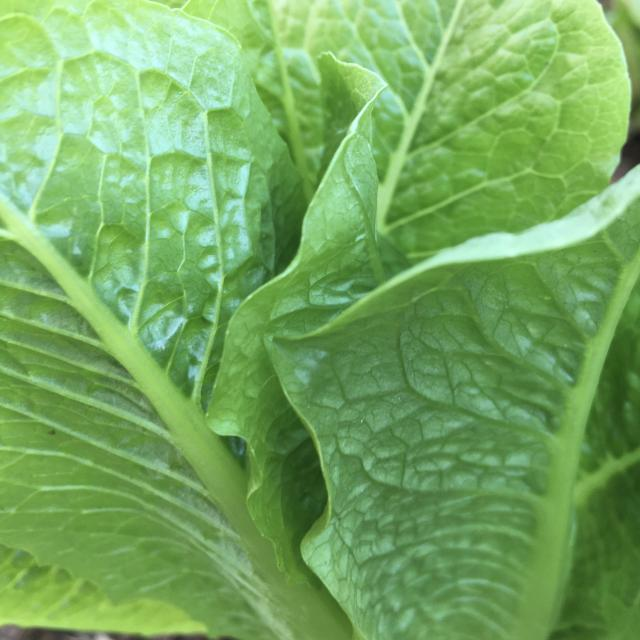Healthy Lettuce: (3, 3, 636, 636)
